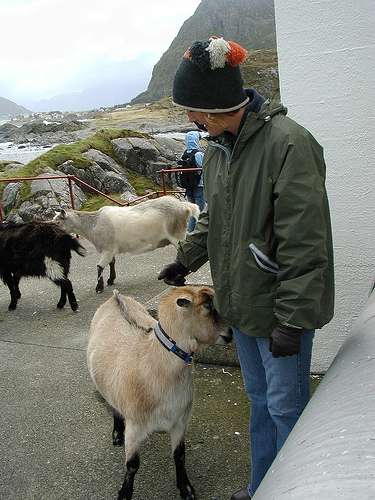goat: (86, 284, 233, 500), (52, 194, 201, 295), (1, 221, 85, 315)
